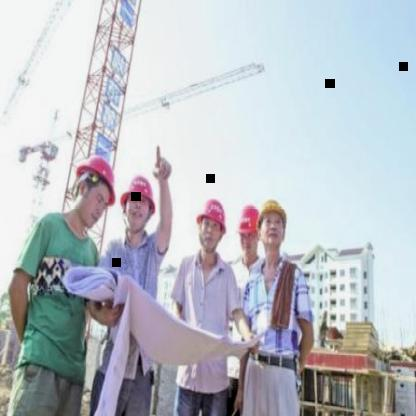helmet: (72, 156, 116, 206), (119, 169, 158, 217), (254, 194, 291, 237), (193, 193, 230, 235), (235, 201, 260, 244)
